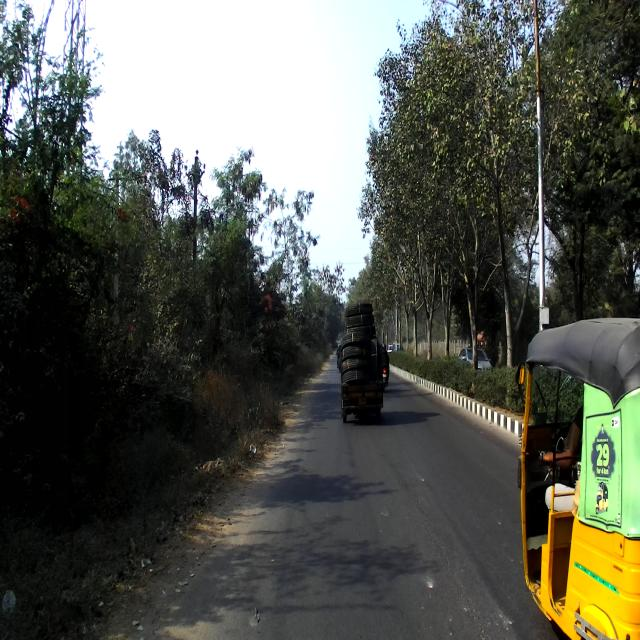auto ahead at: (517, 316, 640, 639)
truck ahead at: (335, 295, 389, 423)
